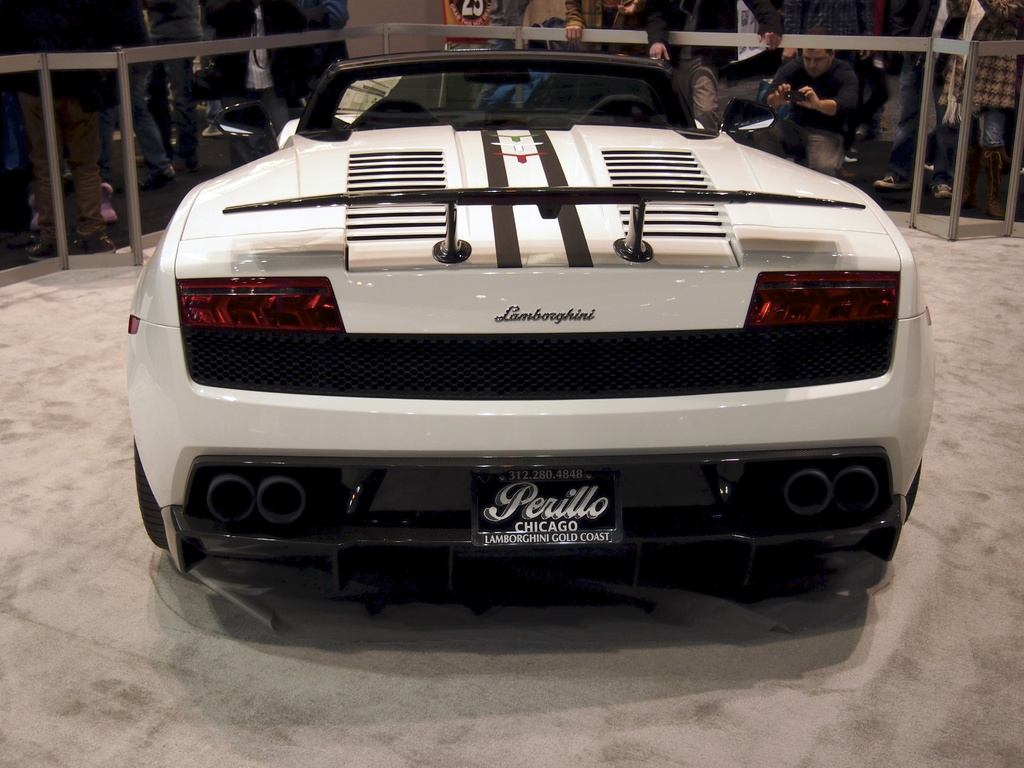Person: (0, 0, 1023, 259)
